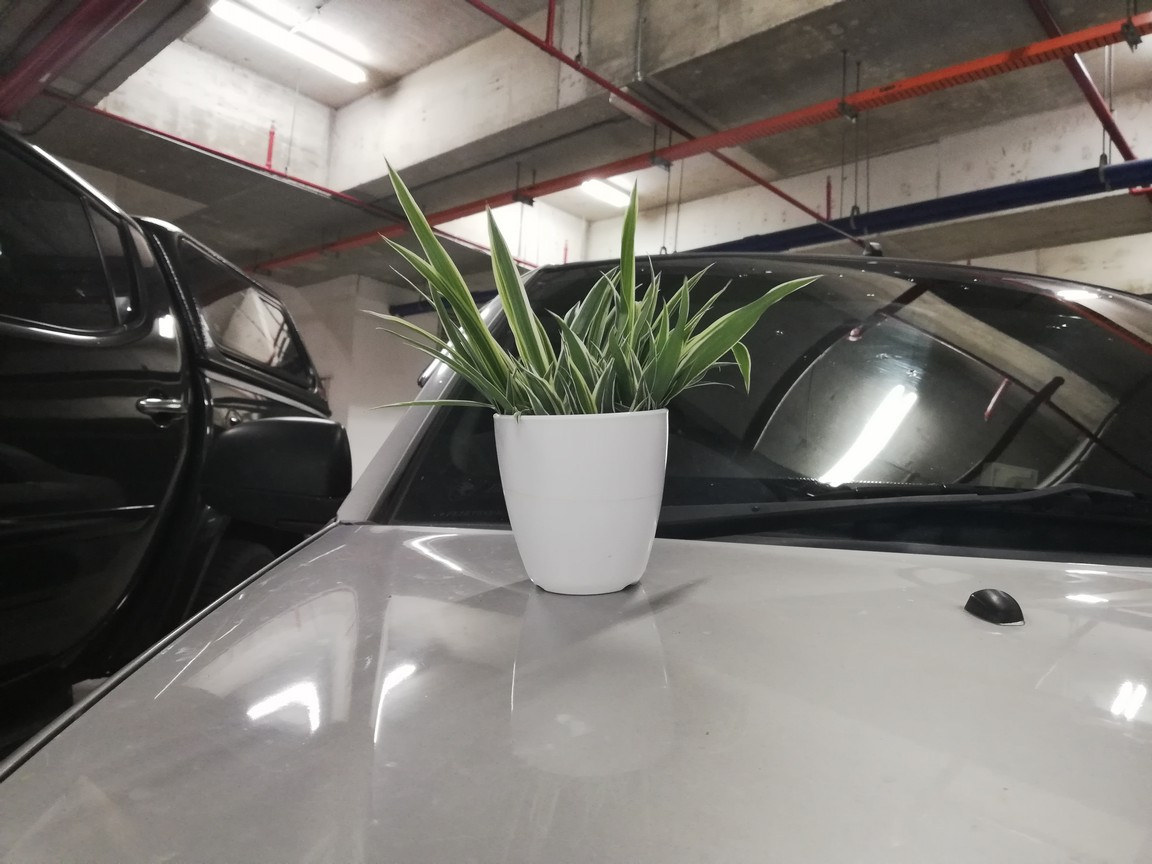daun: (733, 274, 825, 342), (486, 196, 531, 326), (380, 149, 431, 233), (370, 399, 485, 414), (619, 174, 637, 268), (361, 308, 433, 326), (377, 230, 415, 264), (516, 377, 543, 415), (731, 348, 752, 396), (706, 277, 733, 312), (689, 260, 717, 288), (675, 272, 690, 321), (388, 264, 412, 293), (542, 303, 566, 330), (374, 327, 410, 341), (687, 379, 739, 388), (564, 299, 581, 326), (594, 264, 619, 282), (644, 251, 656, 285), (661, 296, 670, 337), (508, 347, 522, 371), (540, 359, 554, 383), (648, 268, 663, 290), (710, 361, 740, 370)
